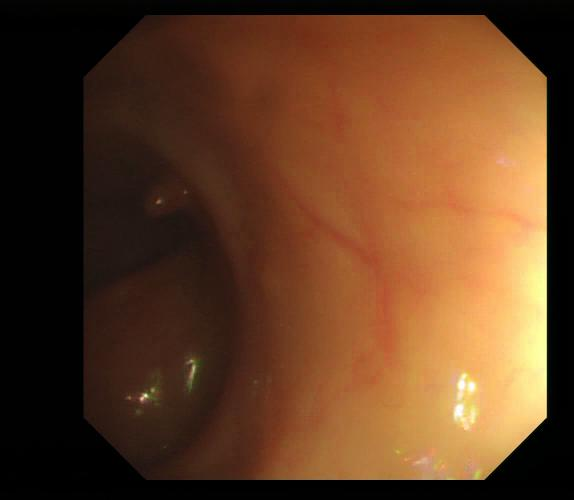polyp: (141, 174, 201, 217)
